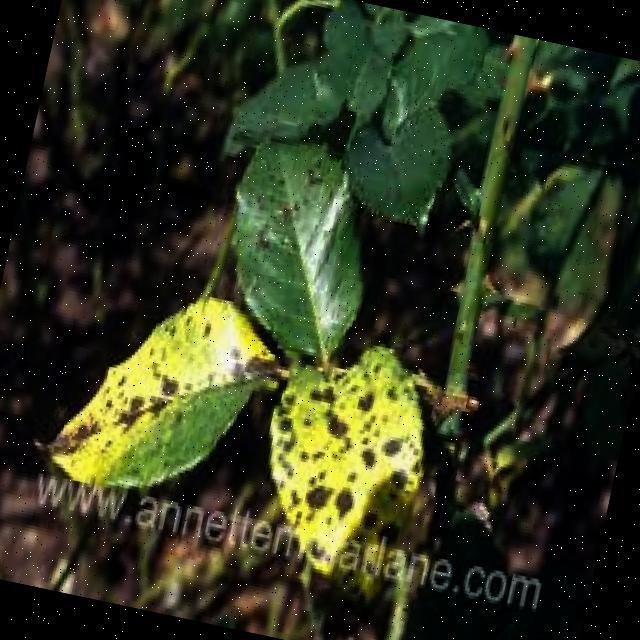leaf spot: (16, 265, 305, 517), (204, 102, 391, 320), (252, 338, 446, 544)
